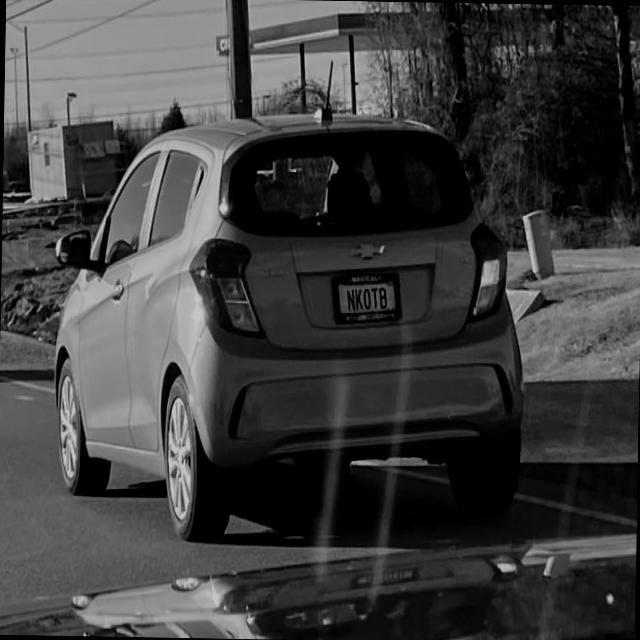LicensePlate: (330, 273, 402, 323)
